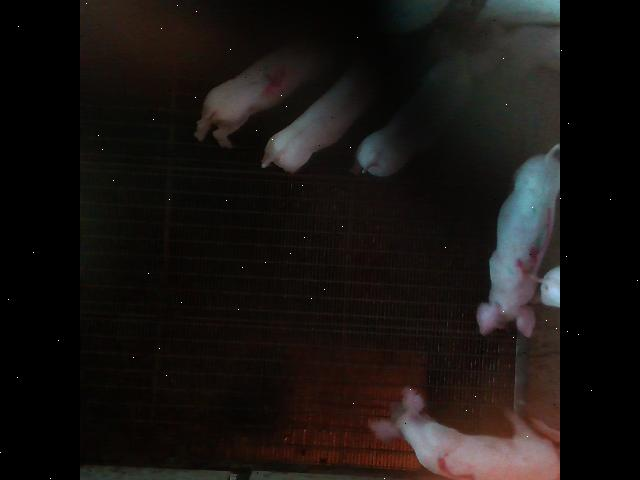pig-2: (370, 386, 559, 480)
pig-3: (476, 144, 559, 336)
pig-4: (194, 46, 321, 148)
